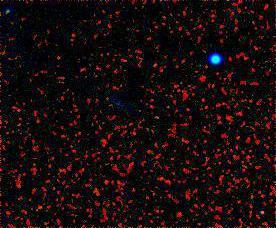star: (95, 82, 125, 112)
